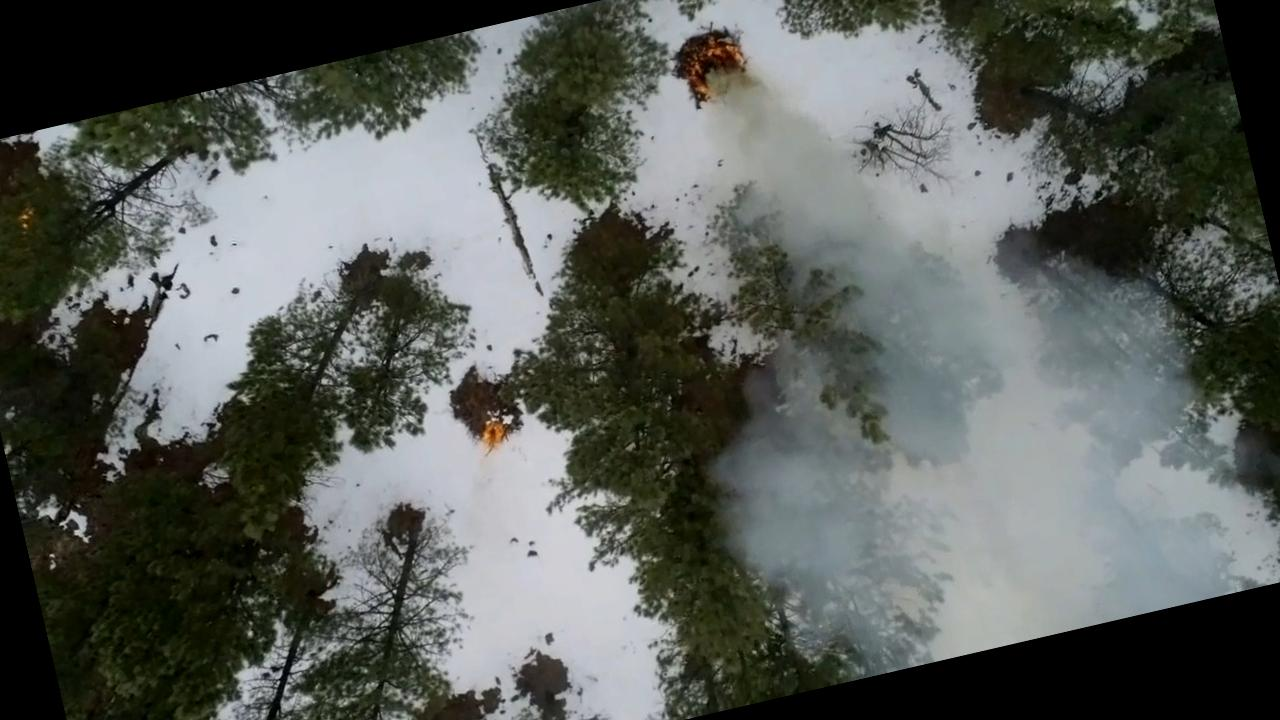fire: (672, 27, 768, 126), (468, 404, 514, 461)
smoke: (812, 229, 1248, 670), (704, 378, 934, 642)
